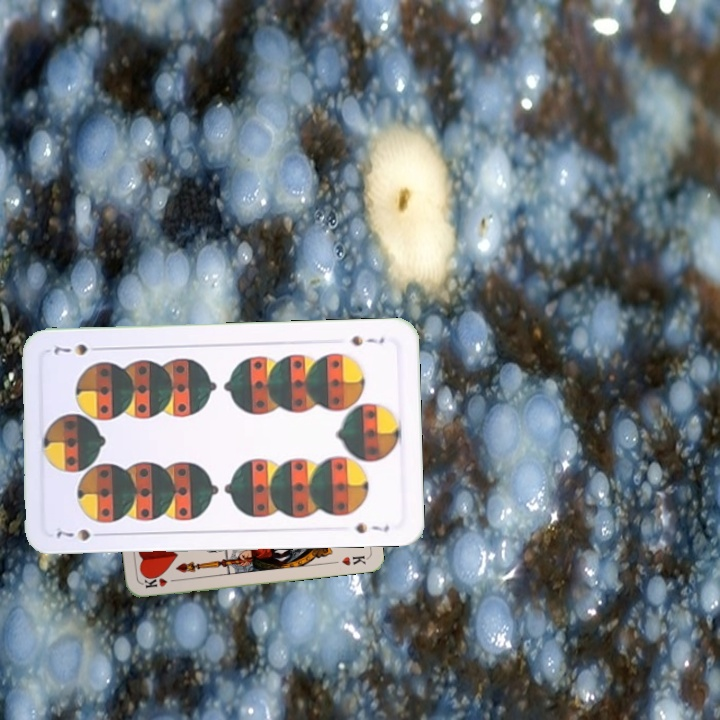HK: (140, 572, 180, 590)
S7: (52, 524, 108, 544), (347, 332, 387, 349)
